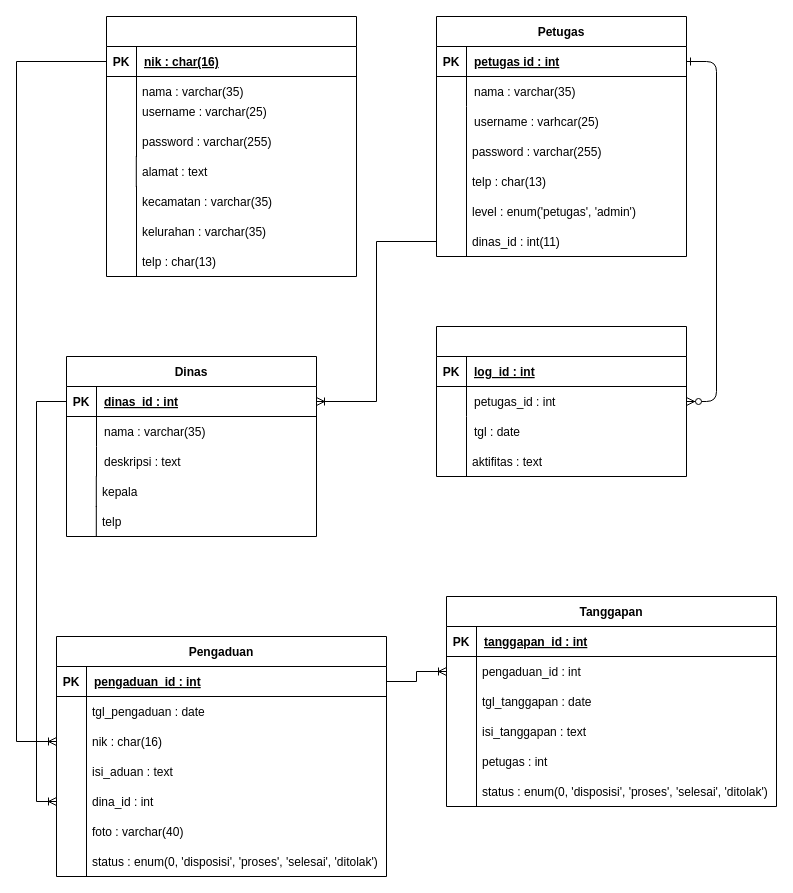
Some shapes in this 793 by 893 pixel diagram are drawn without their labels. Here are the shapes that lost their labels. From the top down, the box of each, then its label:
(106, 16, 356, 276): Masyarakat
(436, 326, 686, 476): Log aktifitas
